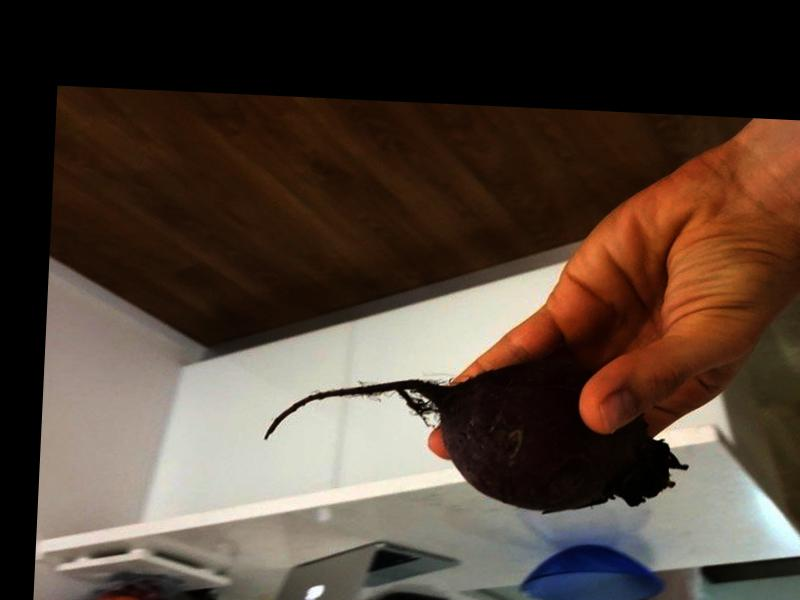Beet: (261, 351, 688, 516)
